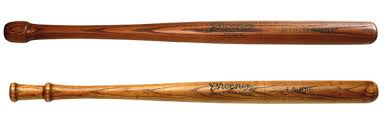bat: (3, 19, 379, 47), (8, 79, 380, 105)
